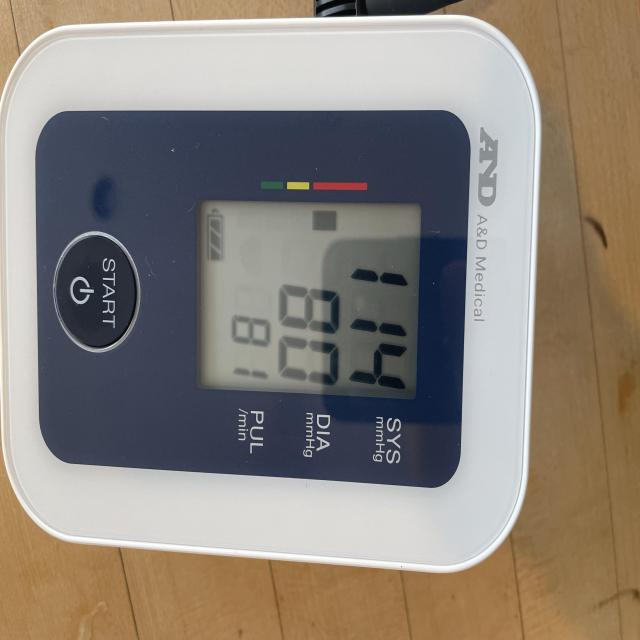bp: (2, 12, 540, 575)
